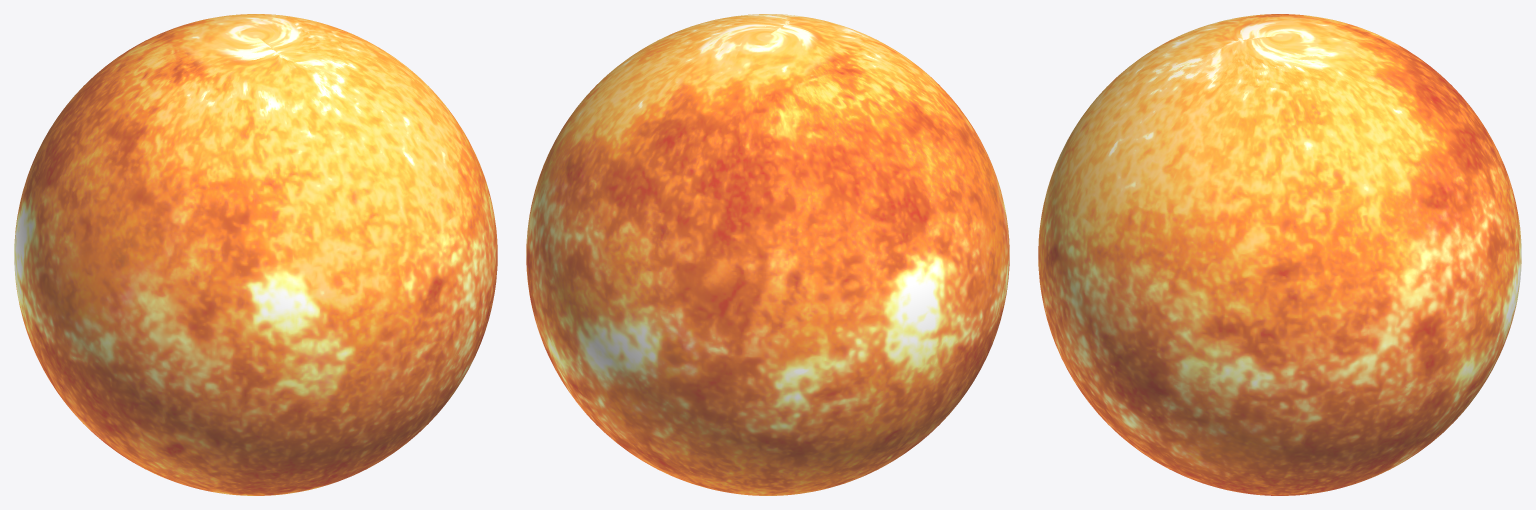
The model's file is sun_only.glb.
The picture shows the model from 3 angles, left to right: view 1: azimuth 30°, elevation 25°; view 2: azimuth 150°, elevation 25°; view 3: azimuth 270°, elevation 25°; orthographic projection.
Visible parts, largest first — view 1: Sun; view 2: Sun; view 3: Sun.
Part boxes in pixels (x1,y1,x2,y2): Sun: (14, 14, 497, 495); Sun: (526, 14, 1009, 495); Sun: (1038, 14, 1521, 495).
Size of the model in its own units: 699948 by 700000 by 699948.
Materials: 1 (1 with a texture image).
